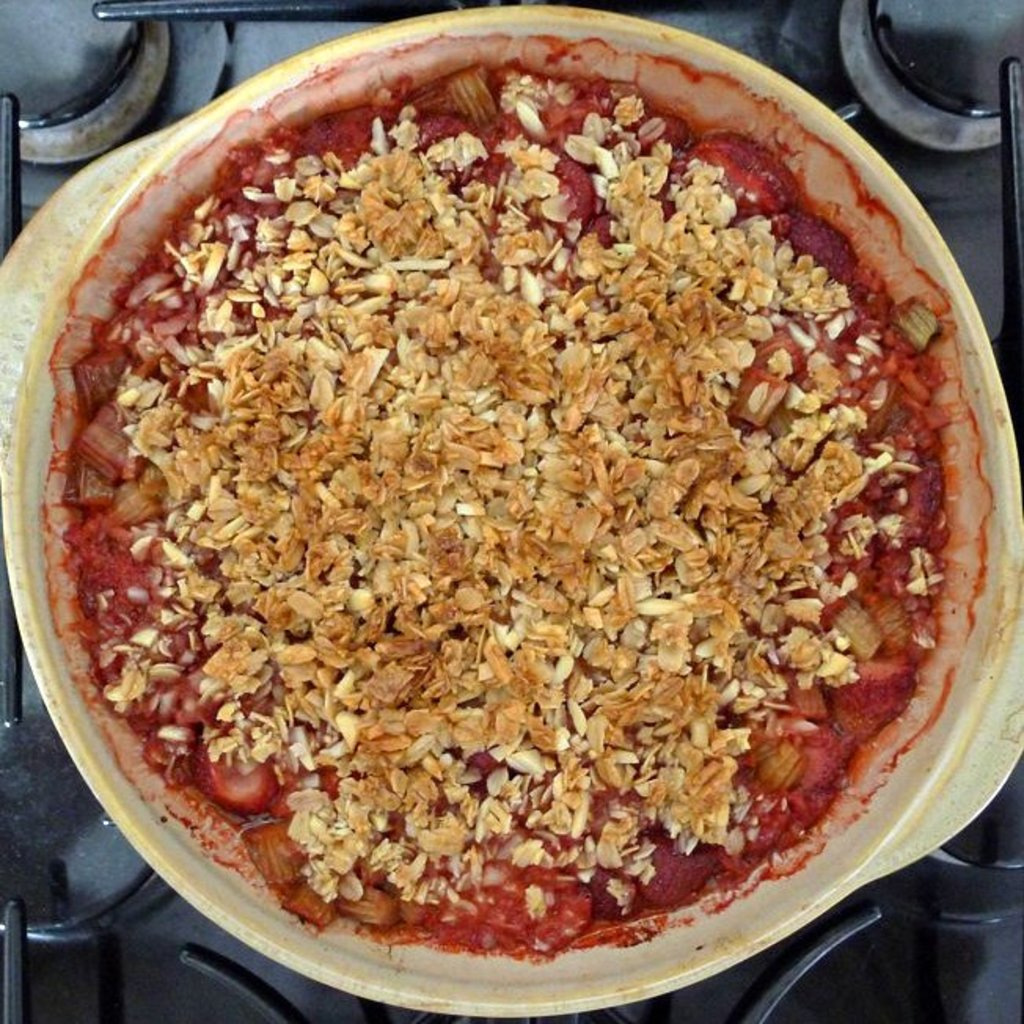Pizza: (32, 25, 1009, 983)
